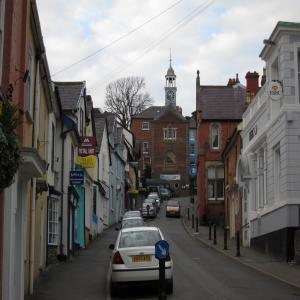Vehicle-registration-plate: (133, 256, 152, 263)
